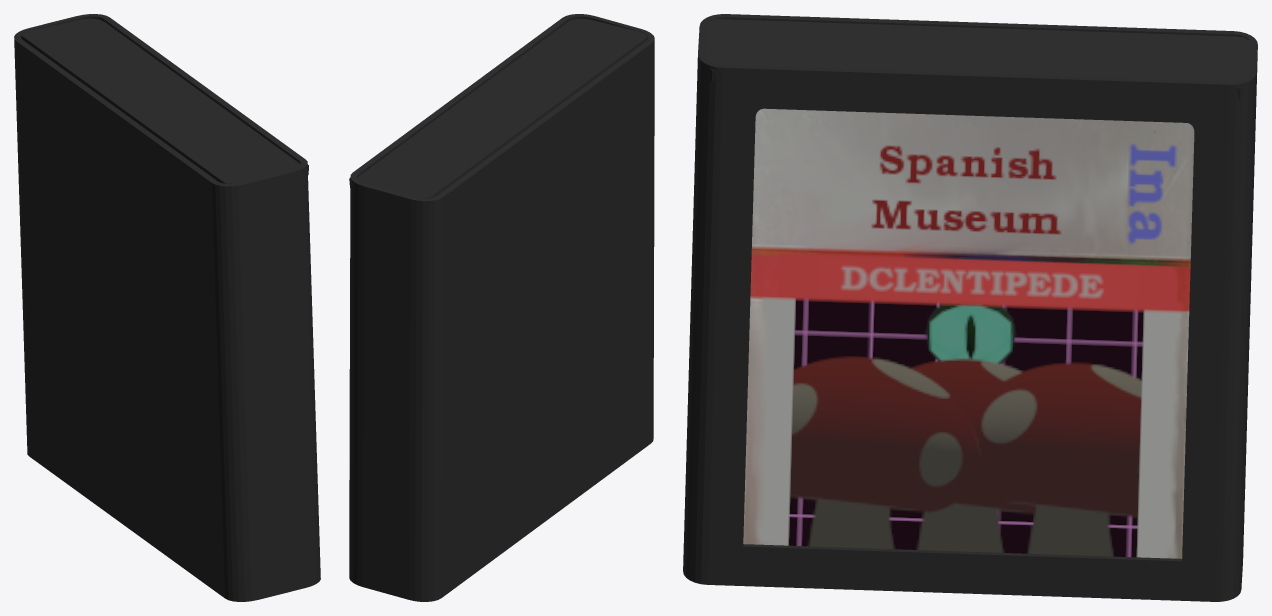
The model's file is cartucho.glb.
3 renders of one model, left to right at view 1: azimuth 30°, elevation 25°; view 2: azimuth 150°, elevation 25°; view 3: azimuth 270°, elevation 25°, orthographic. The views are drawn at different scales.
Visible parts, largest first — view 1: cartridge.002_Cube.011, cartridge.003_Cube.012; view 2: cartridge.002_Cube.011, cartridge.003_Cube.012; view 3: cartridge.002_Cube.011, cartridge.003_Cube.012.
Part boxes in pixels (x1,y1,x2,y2): cartridge.002_Cube.011: (14,14,320,601); cartridge.003_Cube.012: (21,18,308,183); cartridge.002_Cube.011: (349,14,654,601); cartridge.003_Cube.012: (349,19,647,198); cartridge.002_Cube.011: (683,14,1257,601); cartridge.003_Cube.012: (704,19,1251,99).
Size of the model in its own units: 0.3056 by 1.15 by 1.13.
Materials: 4 (1 with a texture image).
